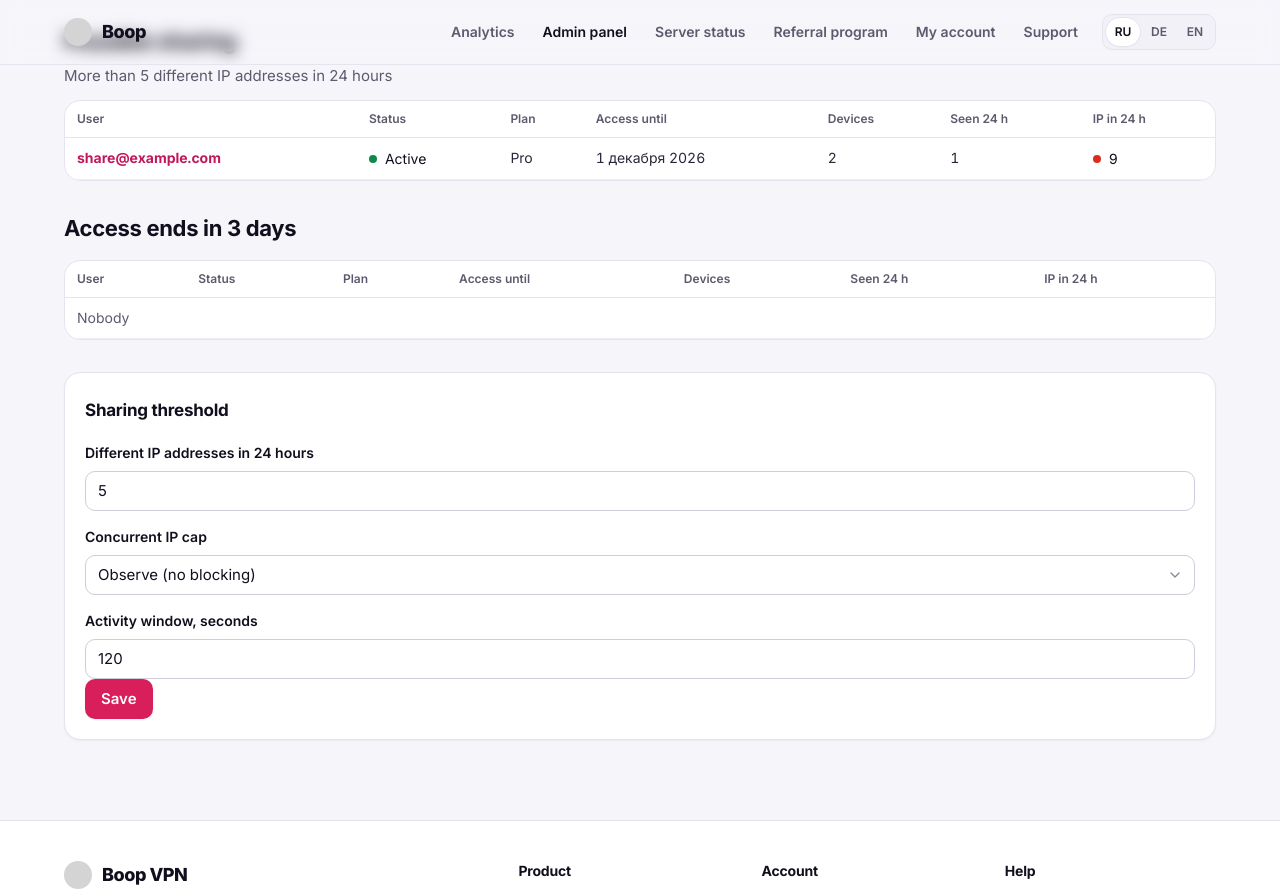
#/admin tabs › the sharing threshold is saved with a toast
(page scrolled)
Replace the text in the number field labelled "Different IP addresses in 24 hours" with "7": [640, 491] box [85,471,1195,511]
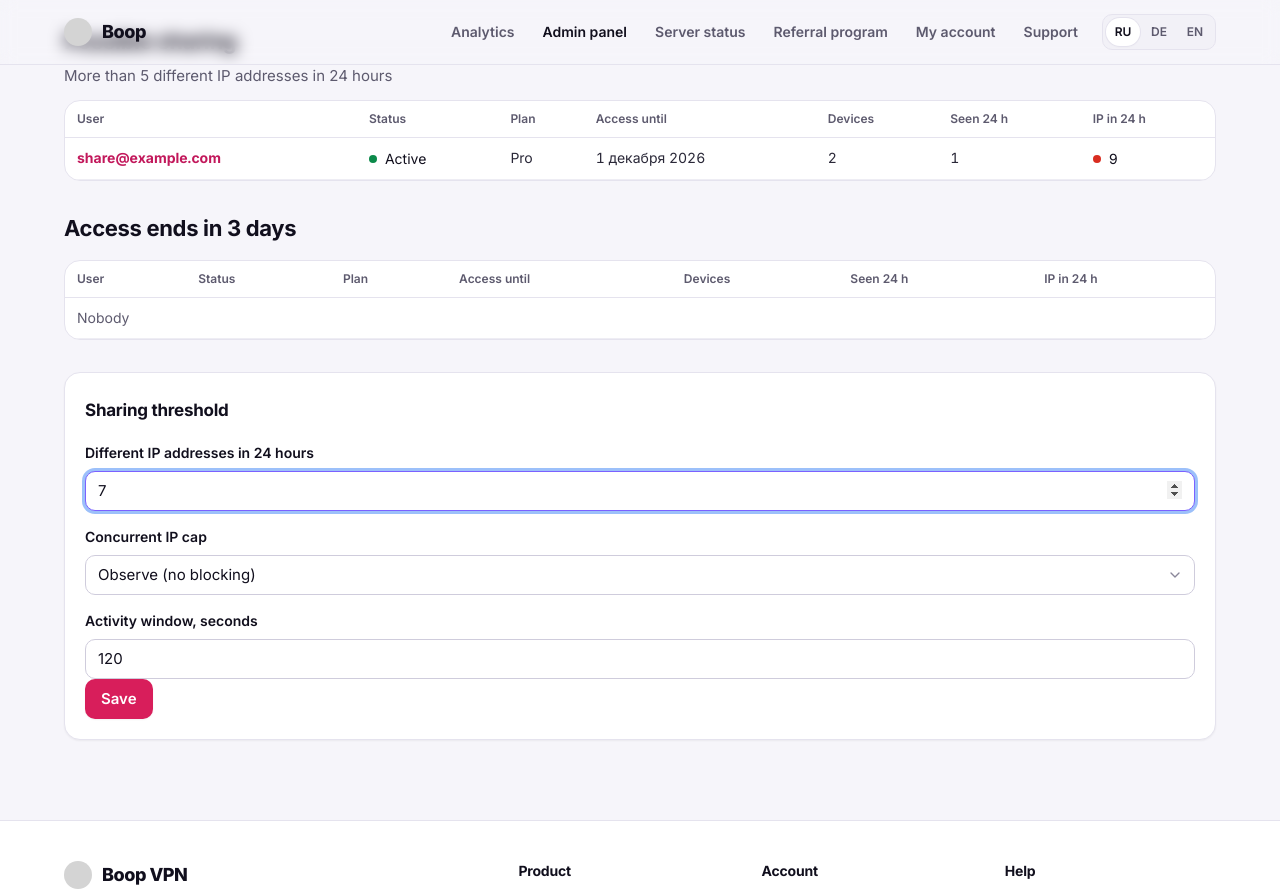
Click the button "Save": [119, 699] box [85,679,152,719]
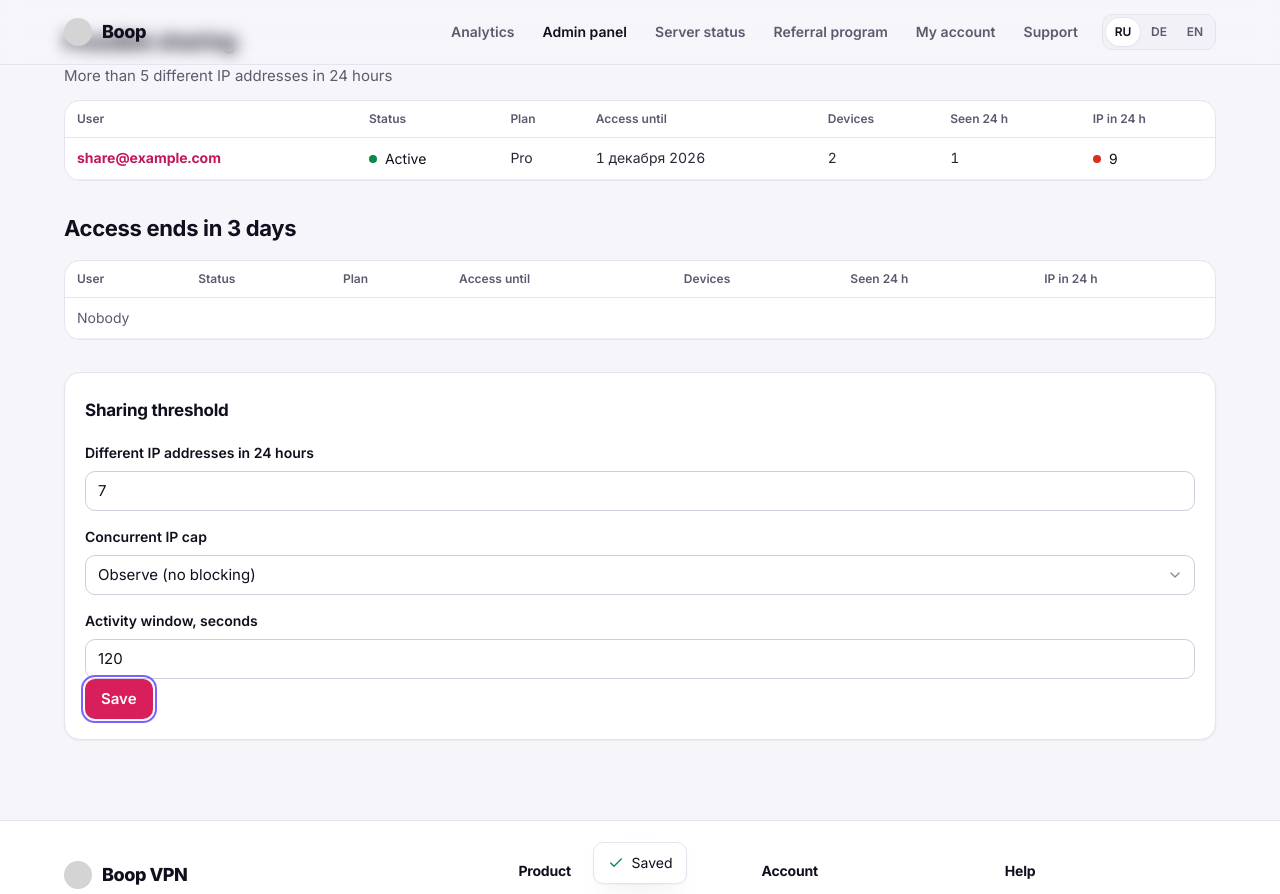
Check: the text "Saved" is shown, box [632,853,672,873]
